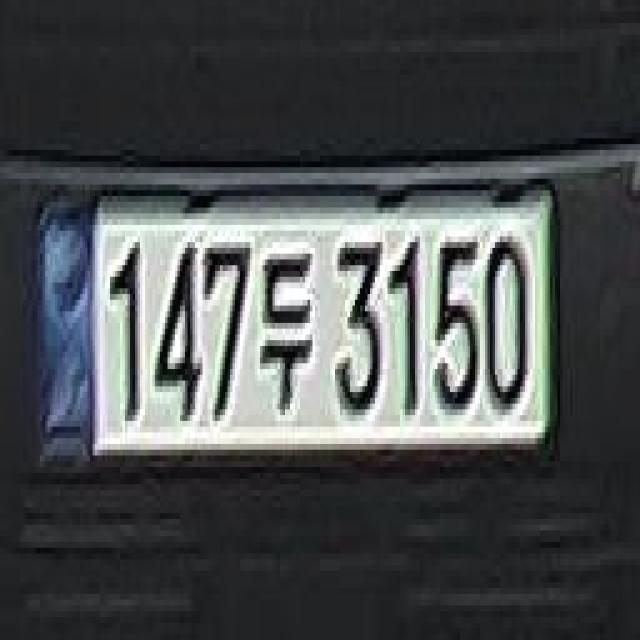illegal_plate: (36, 166, 564, 481)
